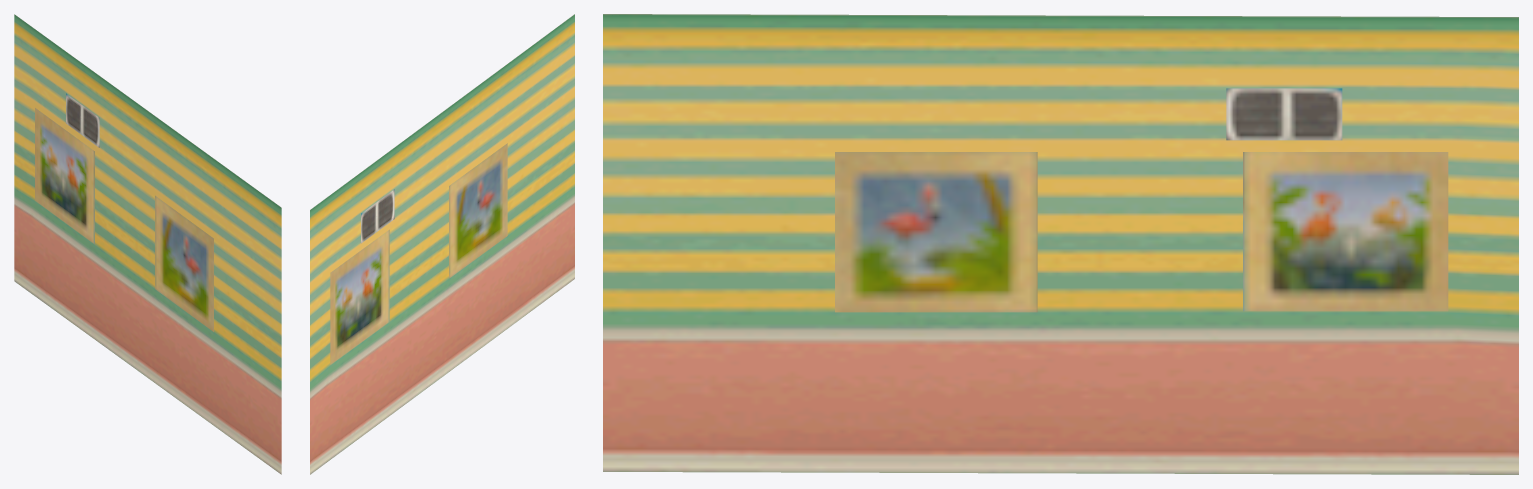
The model's file is mbedwall01.glb.
3 views of the same model, side by side, from view 1: azimuth 30°, elevation 25°; view 2: azimuth 150°, elevation 25°; view 3: azimuth 270°, elevation 25° (orthographic). The views are drawn at different scales.
Visible parts, largest first — view 1: mbedwall01; view 2: mbedwall01; view 3: mbedwall01.
Boxes of the visible parts, x1,y1,x2,y2 form: mbedwall01: [14, 14, 281, 474]; mbedwall01: [310, 14, 574, 474]; mbedwall01: [603, 14, 1518, 474].
Size of the model in its own units: 0.5051 by 628 by 1130.
3 materials, 3 textured.
